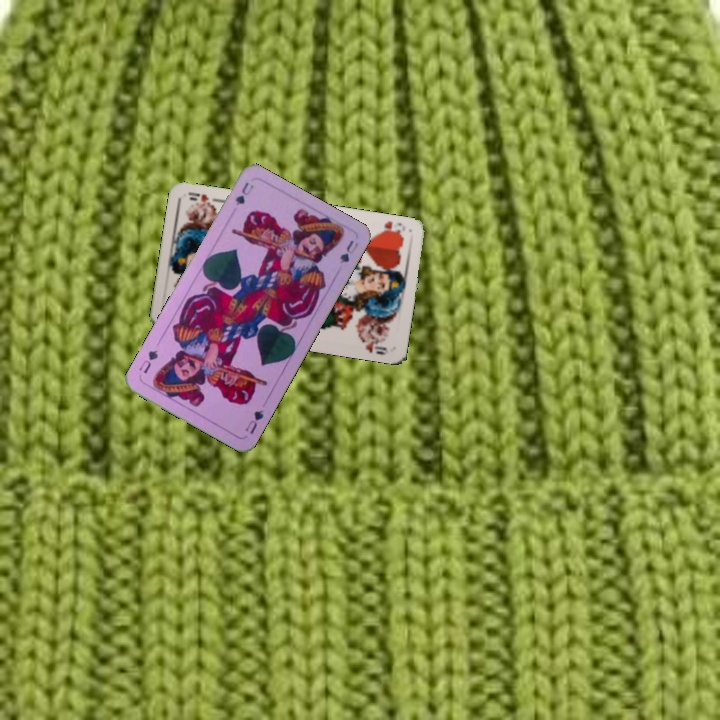GU: (241, 405, 266, 437), (231, 178, 256, 208)
HO: (377, 217, 407, 239)
